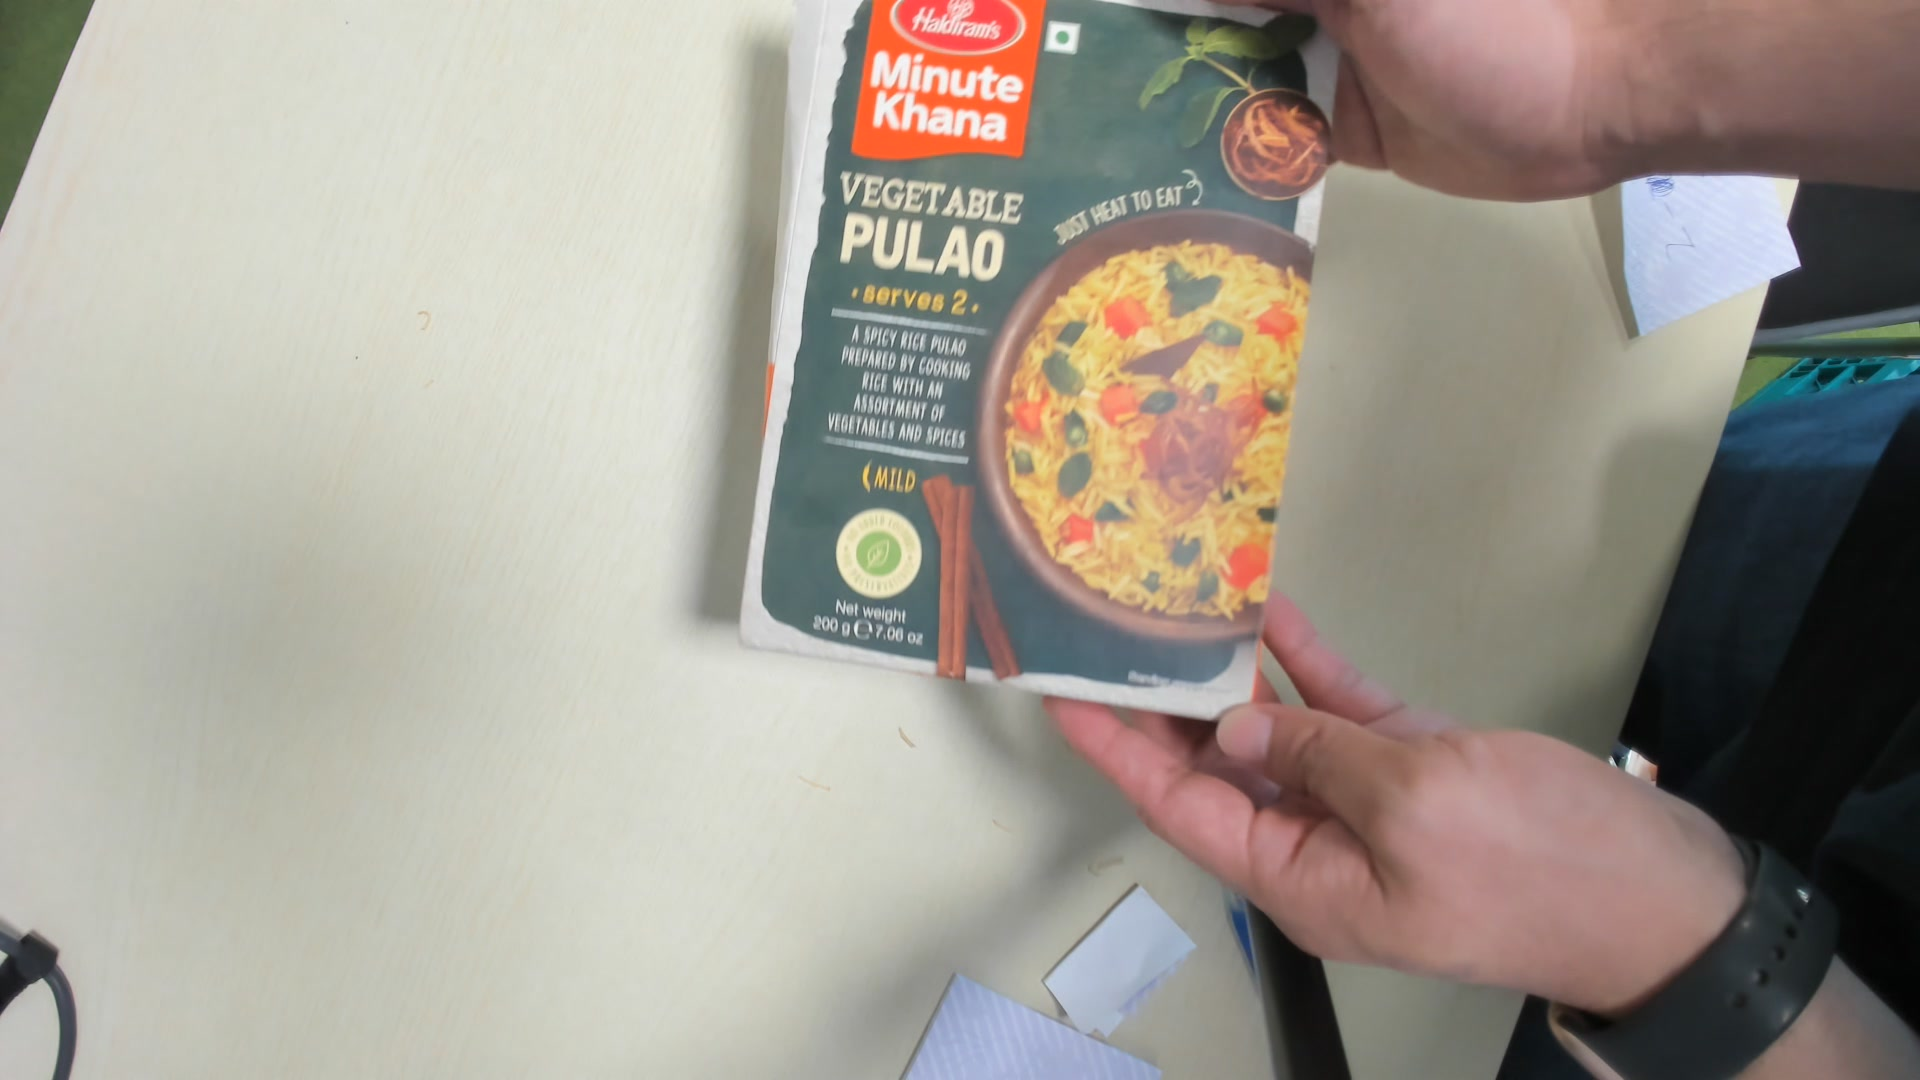InstantMeals_200_299g_NonHalal_NonHealthy: (733, 5, 1344, 725)
